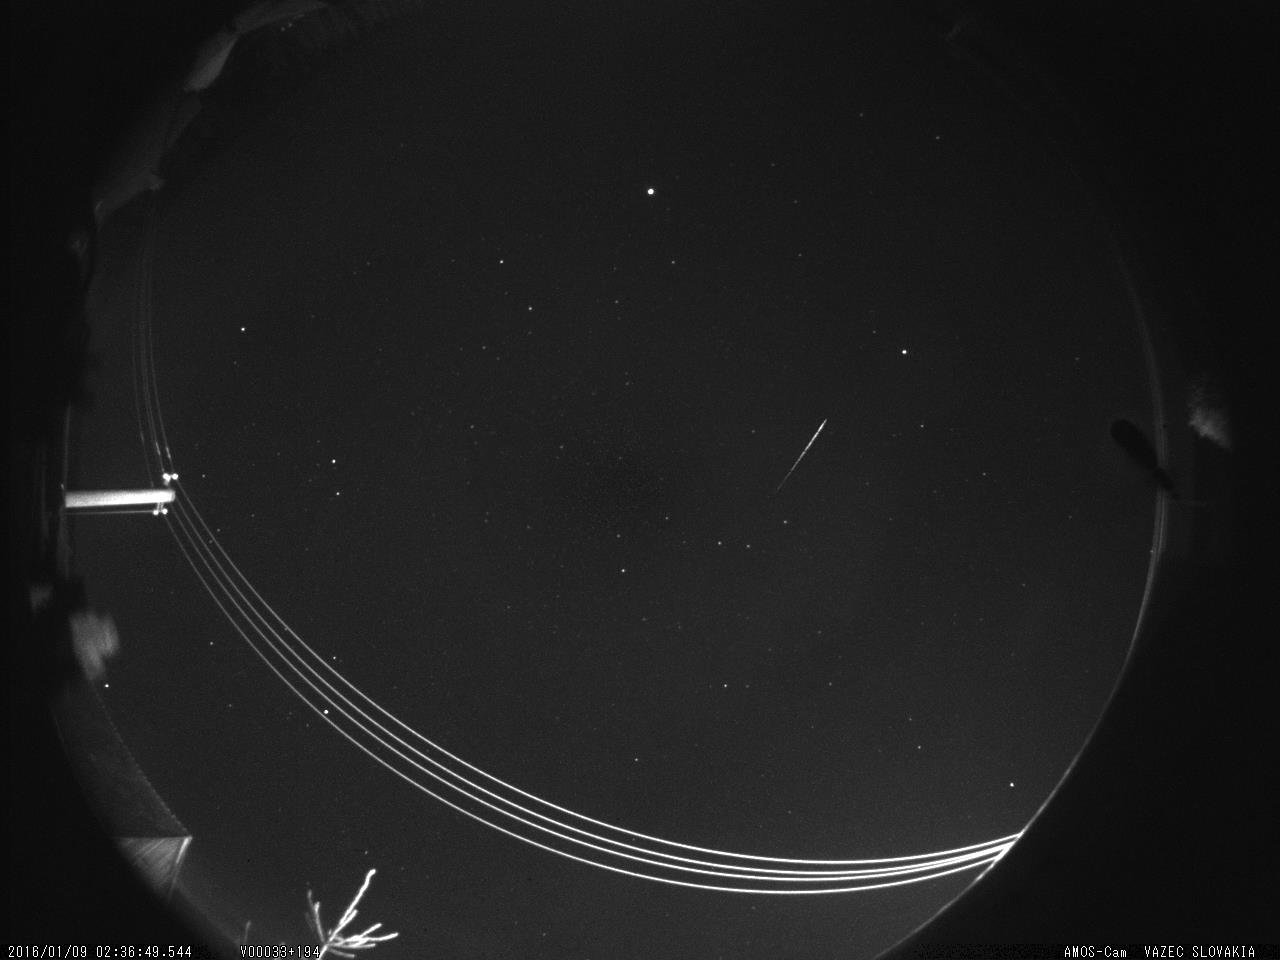meteor: (756, 394, 856, 501)
